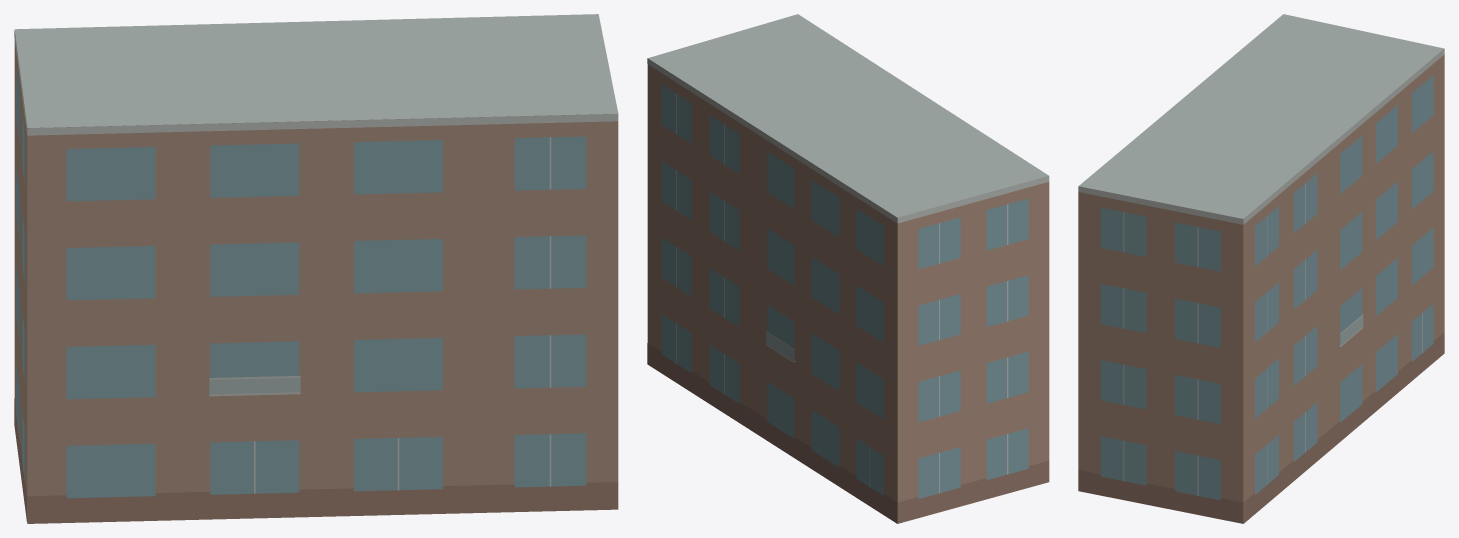
The model's file is survey-upis-32845402.glb.
3 views of the same model, side by side, from view 1: azimuth 30°, elevation 25°; view 2: azimuth 150°, elevation 25°; view 3: azimuth 270°, elevation 25° (orthographic). The views are drawn at different scales.
Visible parts, largest first — view 1: survey-upis-32845402.tmp; view 2: survey-upis-32845402.tmp; view 3: survey-upis-32845402.tmp.
Part boxes in pixels (box(x1,y1,x2,y2)): survey-upis-32845402.tmp: box(14, 14, 618, 523); survey-upis-32845402.tmp: box(647, 14, 1049, 523); survey-upis-32845402.tmp: box(1078, 14, 1444, 523).
Bounding box in the file's own units: 18.4 × 12.75 × 13.89.
